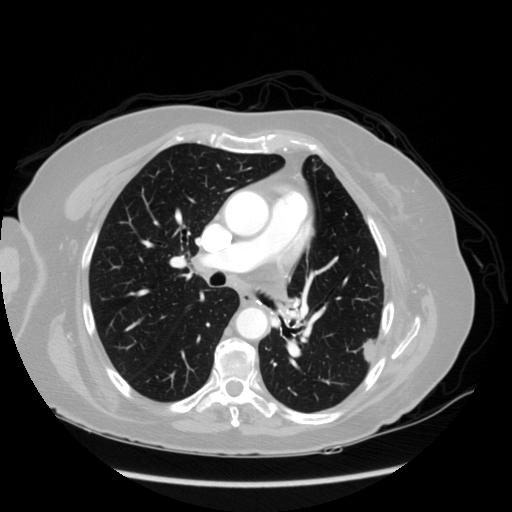nodule: (357, 338, 380, 361)
